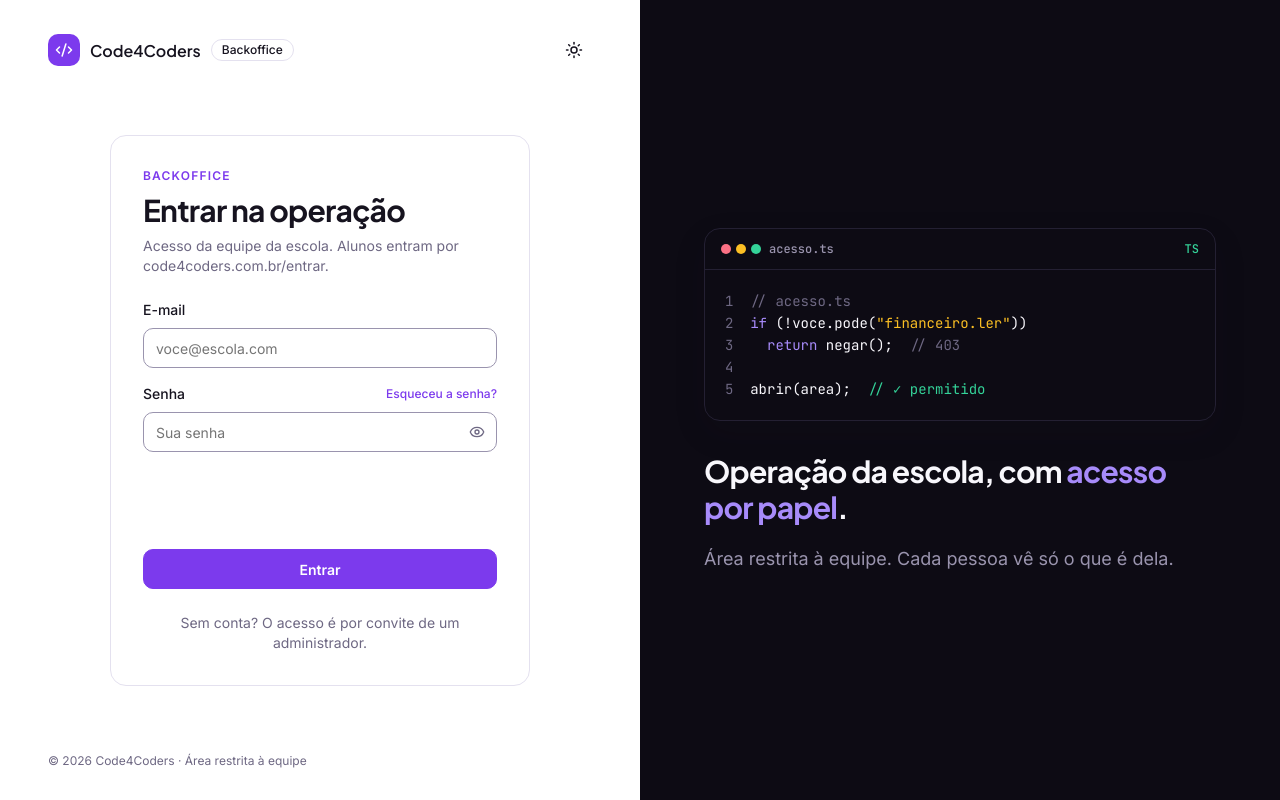
Test: StaffSession login › shows a pt-BR message and restarts the widget on 403 CAPTCHA_INVALID
In the field labelled "E-mail": (320, 348) [143,328,497,368], type "marina@example.com"
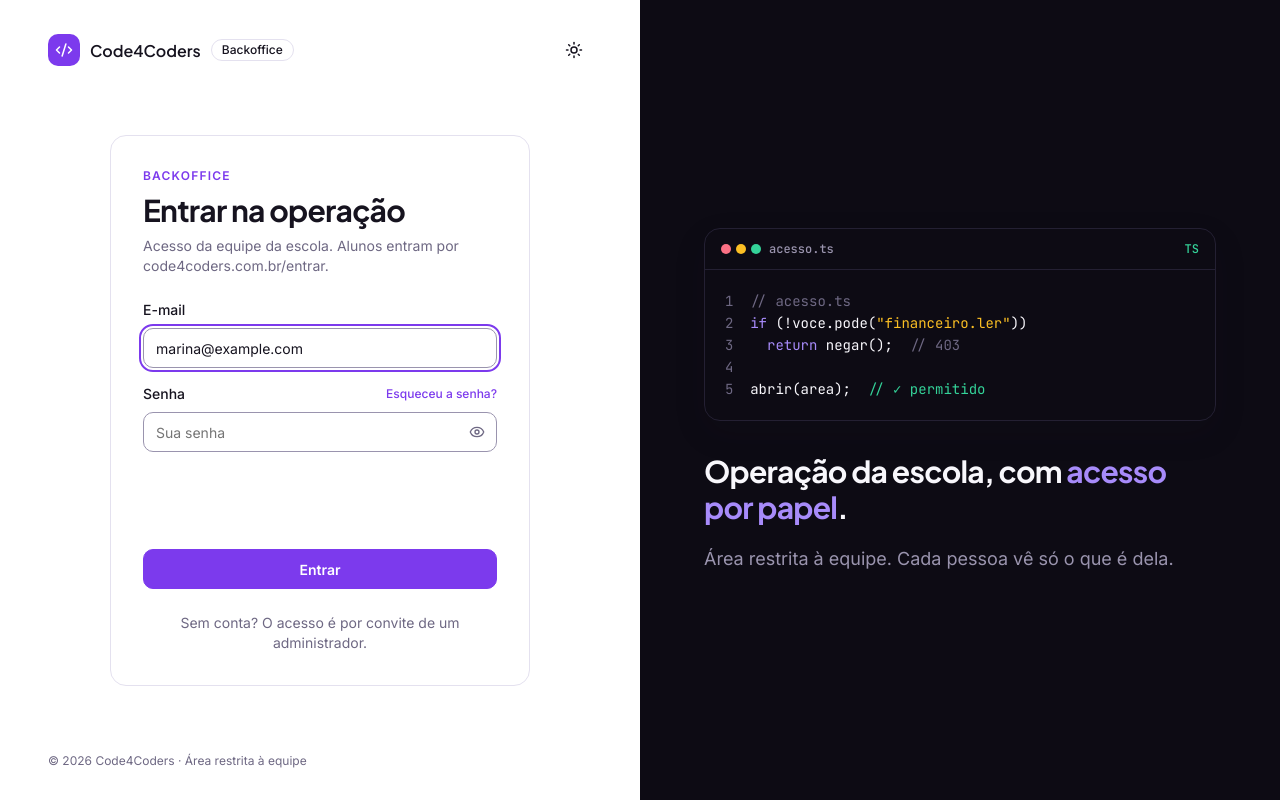
In the password field labelled "Senha": (320, 432) [143,412,497,452], type "SenhaForte1!"
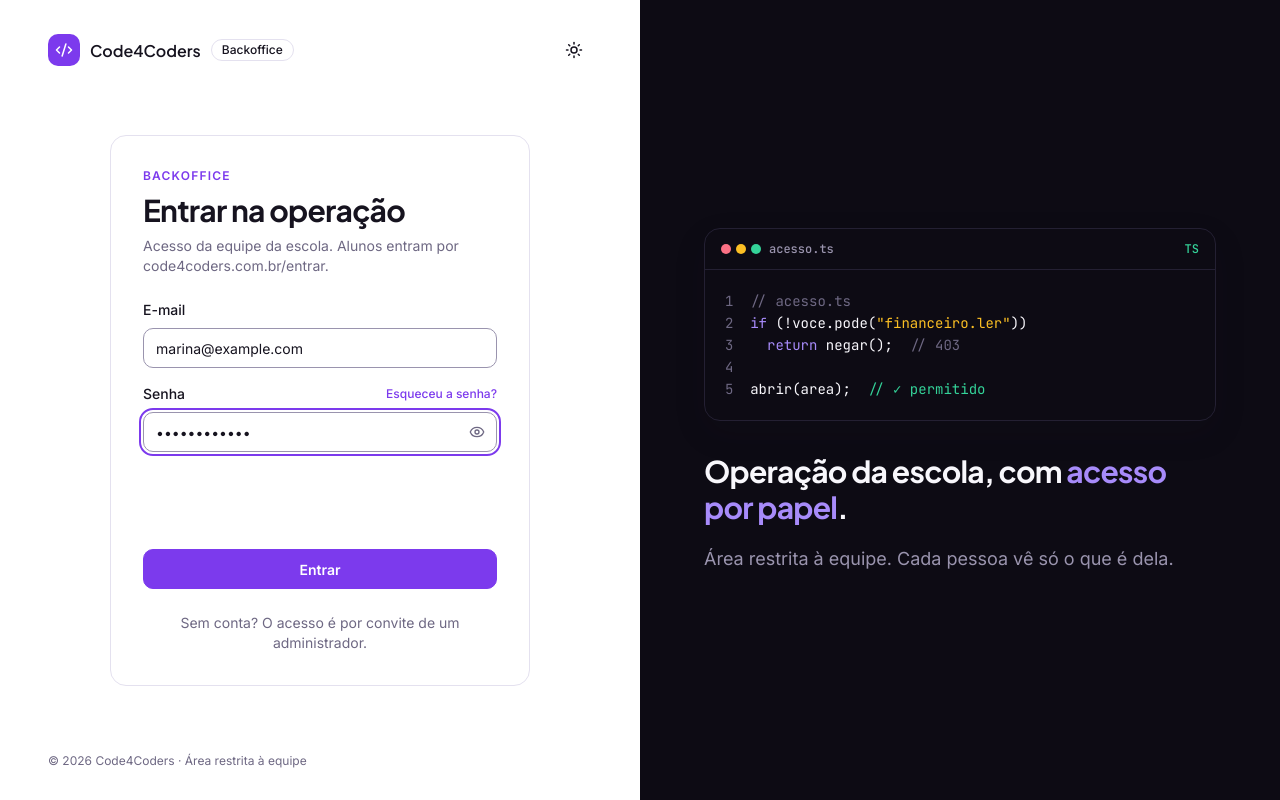
Click the button "Entrar": (320, 569) [143,549,497,589]
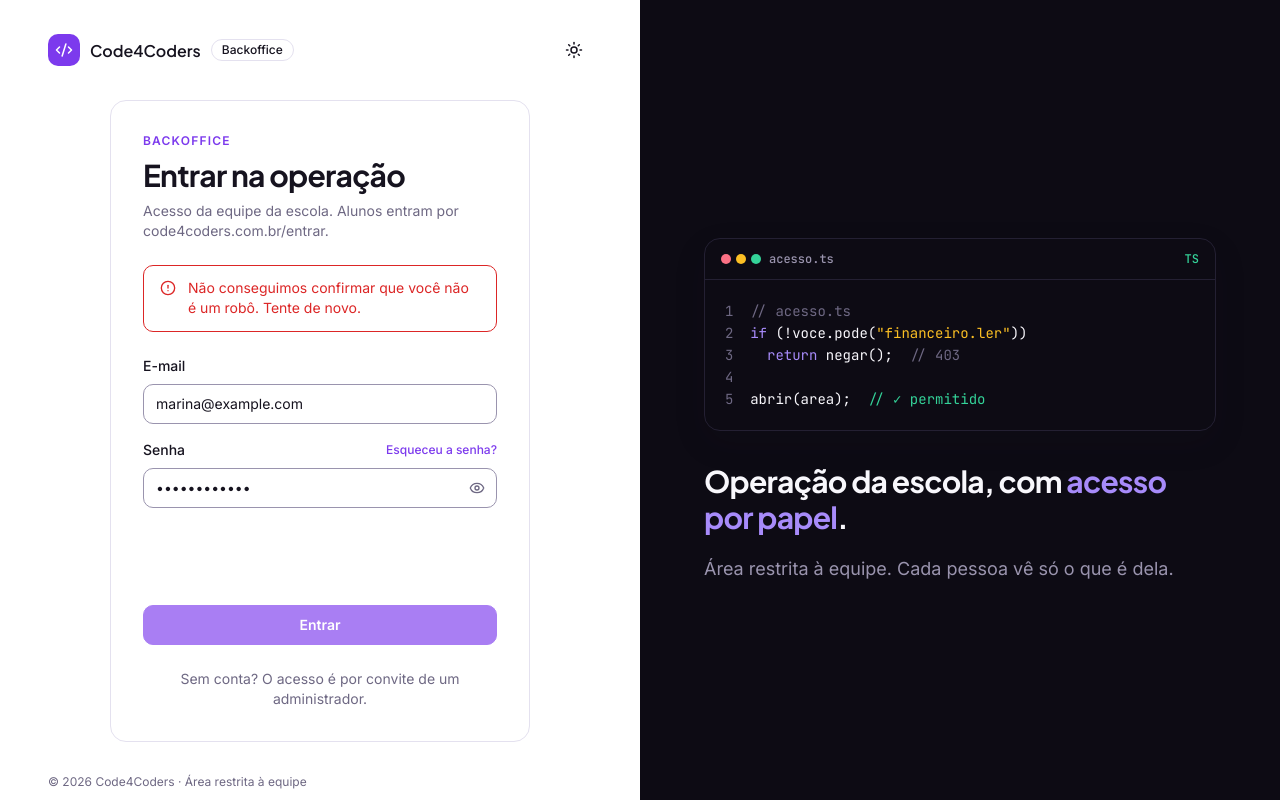
expect the message reads "Não conseguimos confirmar que você não é um robô. Tente de novo.": met, box [188,279,469,316]
expect the button "Entrar" is disabled: met, box [143,605,497,645]
